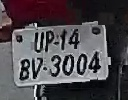0: (61, 53, 76, 79), (75, 53, 88, 77)
1: (59, 28, 67, 51)
3: (49, 53, 62, 80)
4: (88, 51, 102, 76), (70, 26, 81, 51)
B: (16, 57, 31, 82), (31, 56, 43, 81)
P: (45, 29, 54, 54)
U: (33, 30, 44, 56)
